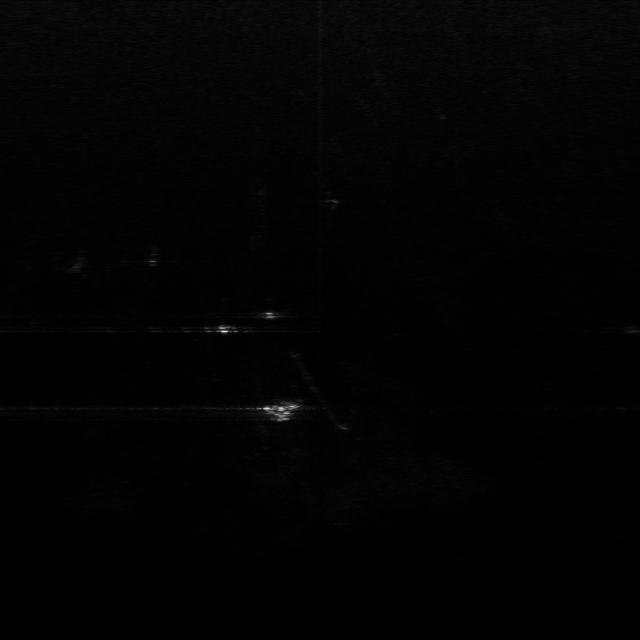rov: (260, 399, 306, 424)
